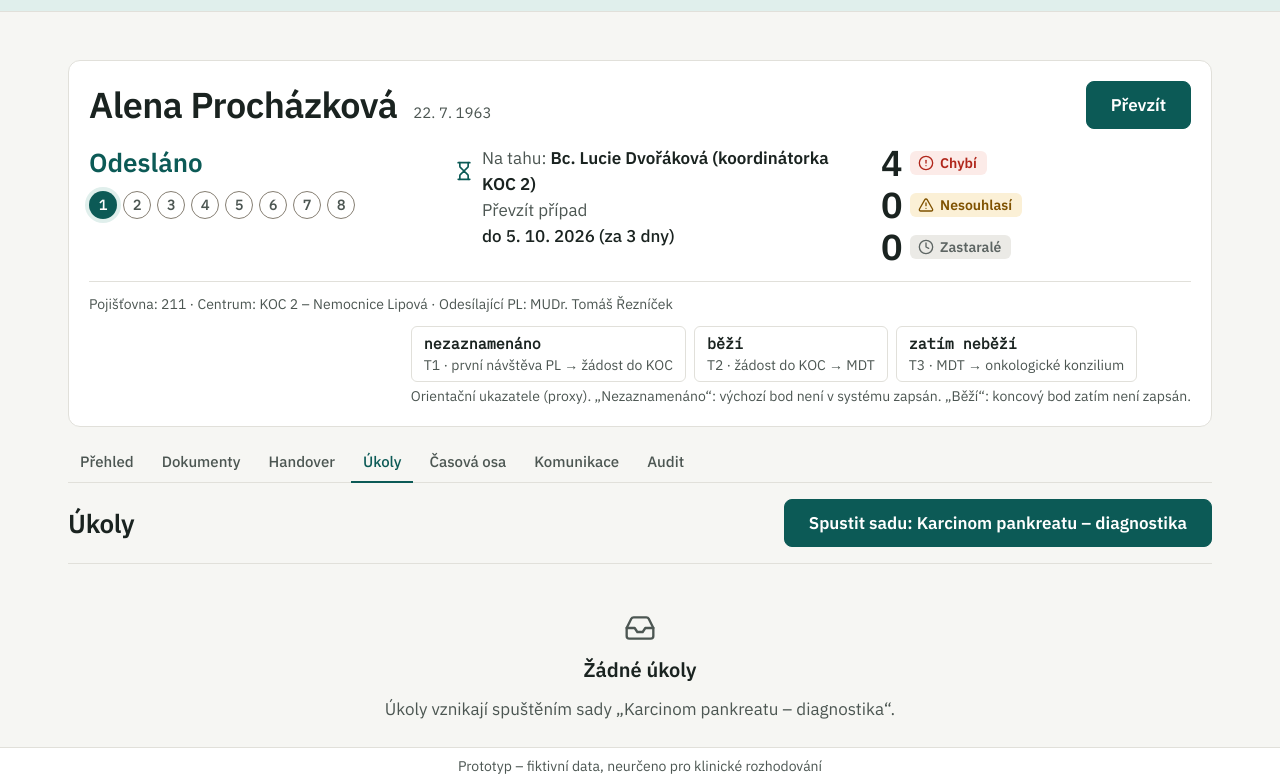
pathway launch › shows the API problem title when the launch is refused
Click the button "Spustit sadu: Karcinom pankreatu – diagnostika" at [998, 523], box [784,499,1212,547]
(page scrolled)
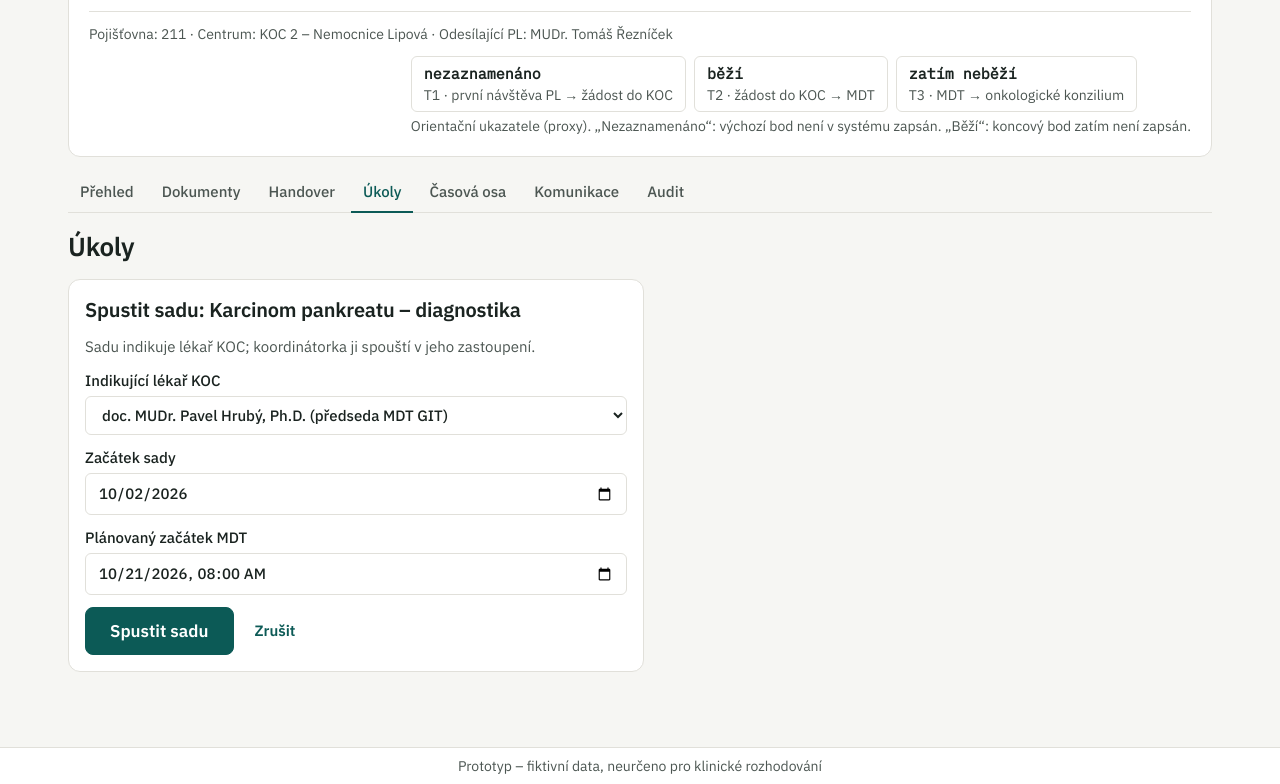
Click the button "Spustit sadu" at [159, 631], box [85,607,234,655]
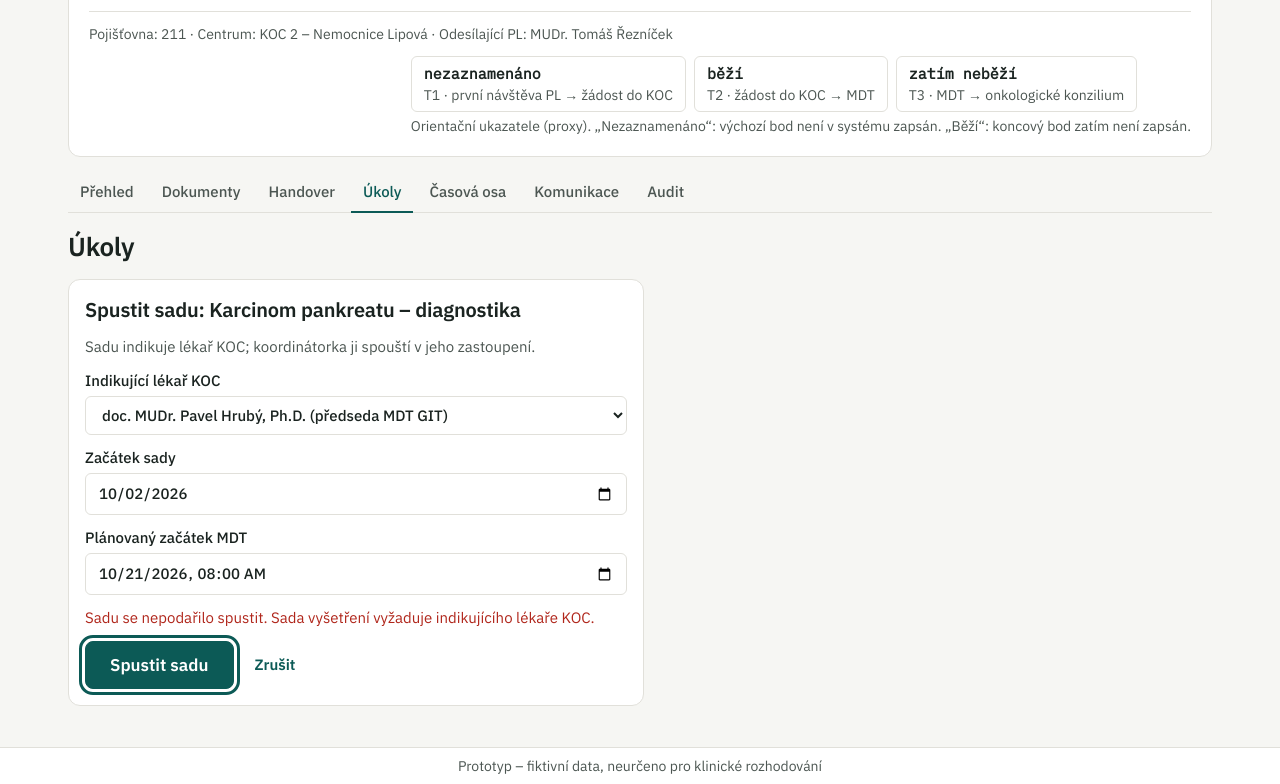
Expected: the message shows "Sada vyšetření vyžaduje indikujícího lékaře KOC.", [271,608,595,627]
